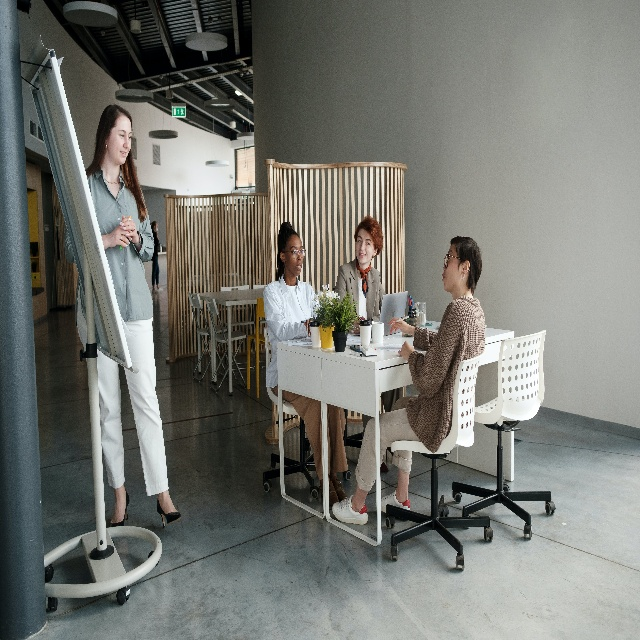Gafas: (443, 252, 469, 268), (283, 248, 305, 257)
Sin_guantes: (119, 213, 137, 239), (109, 226, 131, 246), (388, 316, 409, 335), (398, 341, 415, 361), (352, 314, 366, 335), (303, 317, 312, 337)
